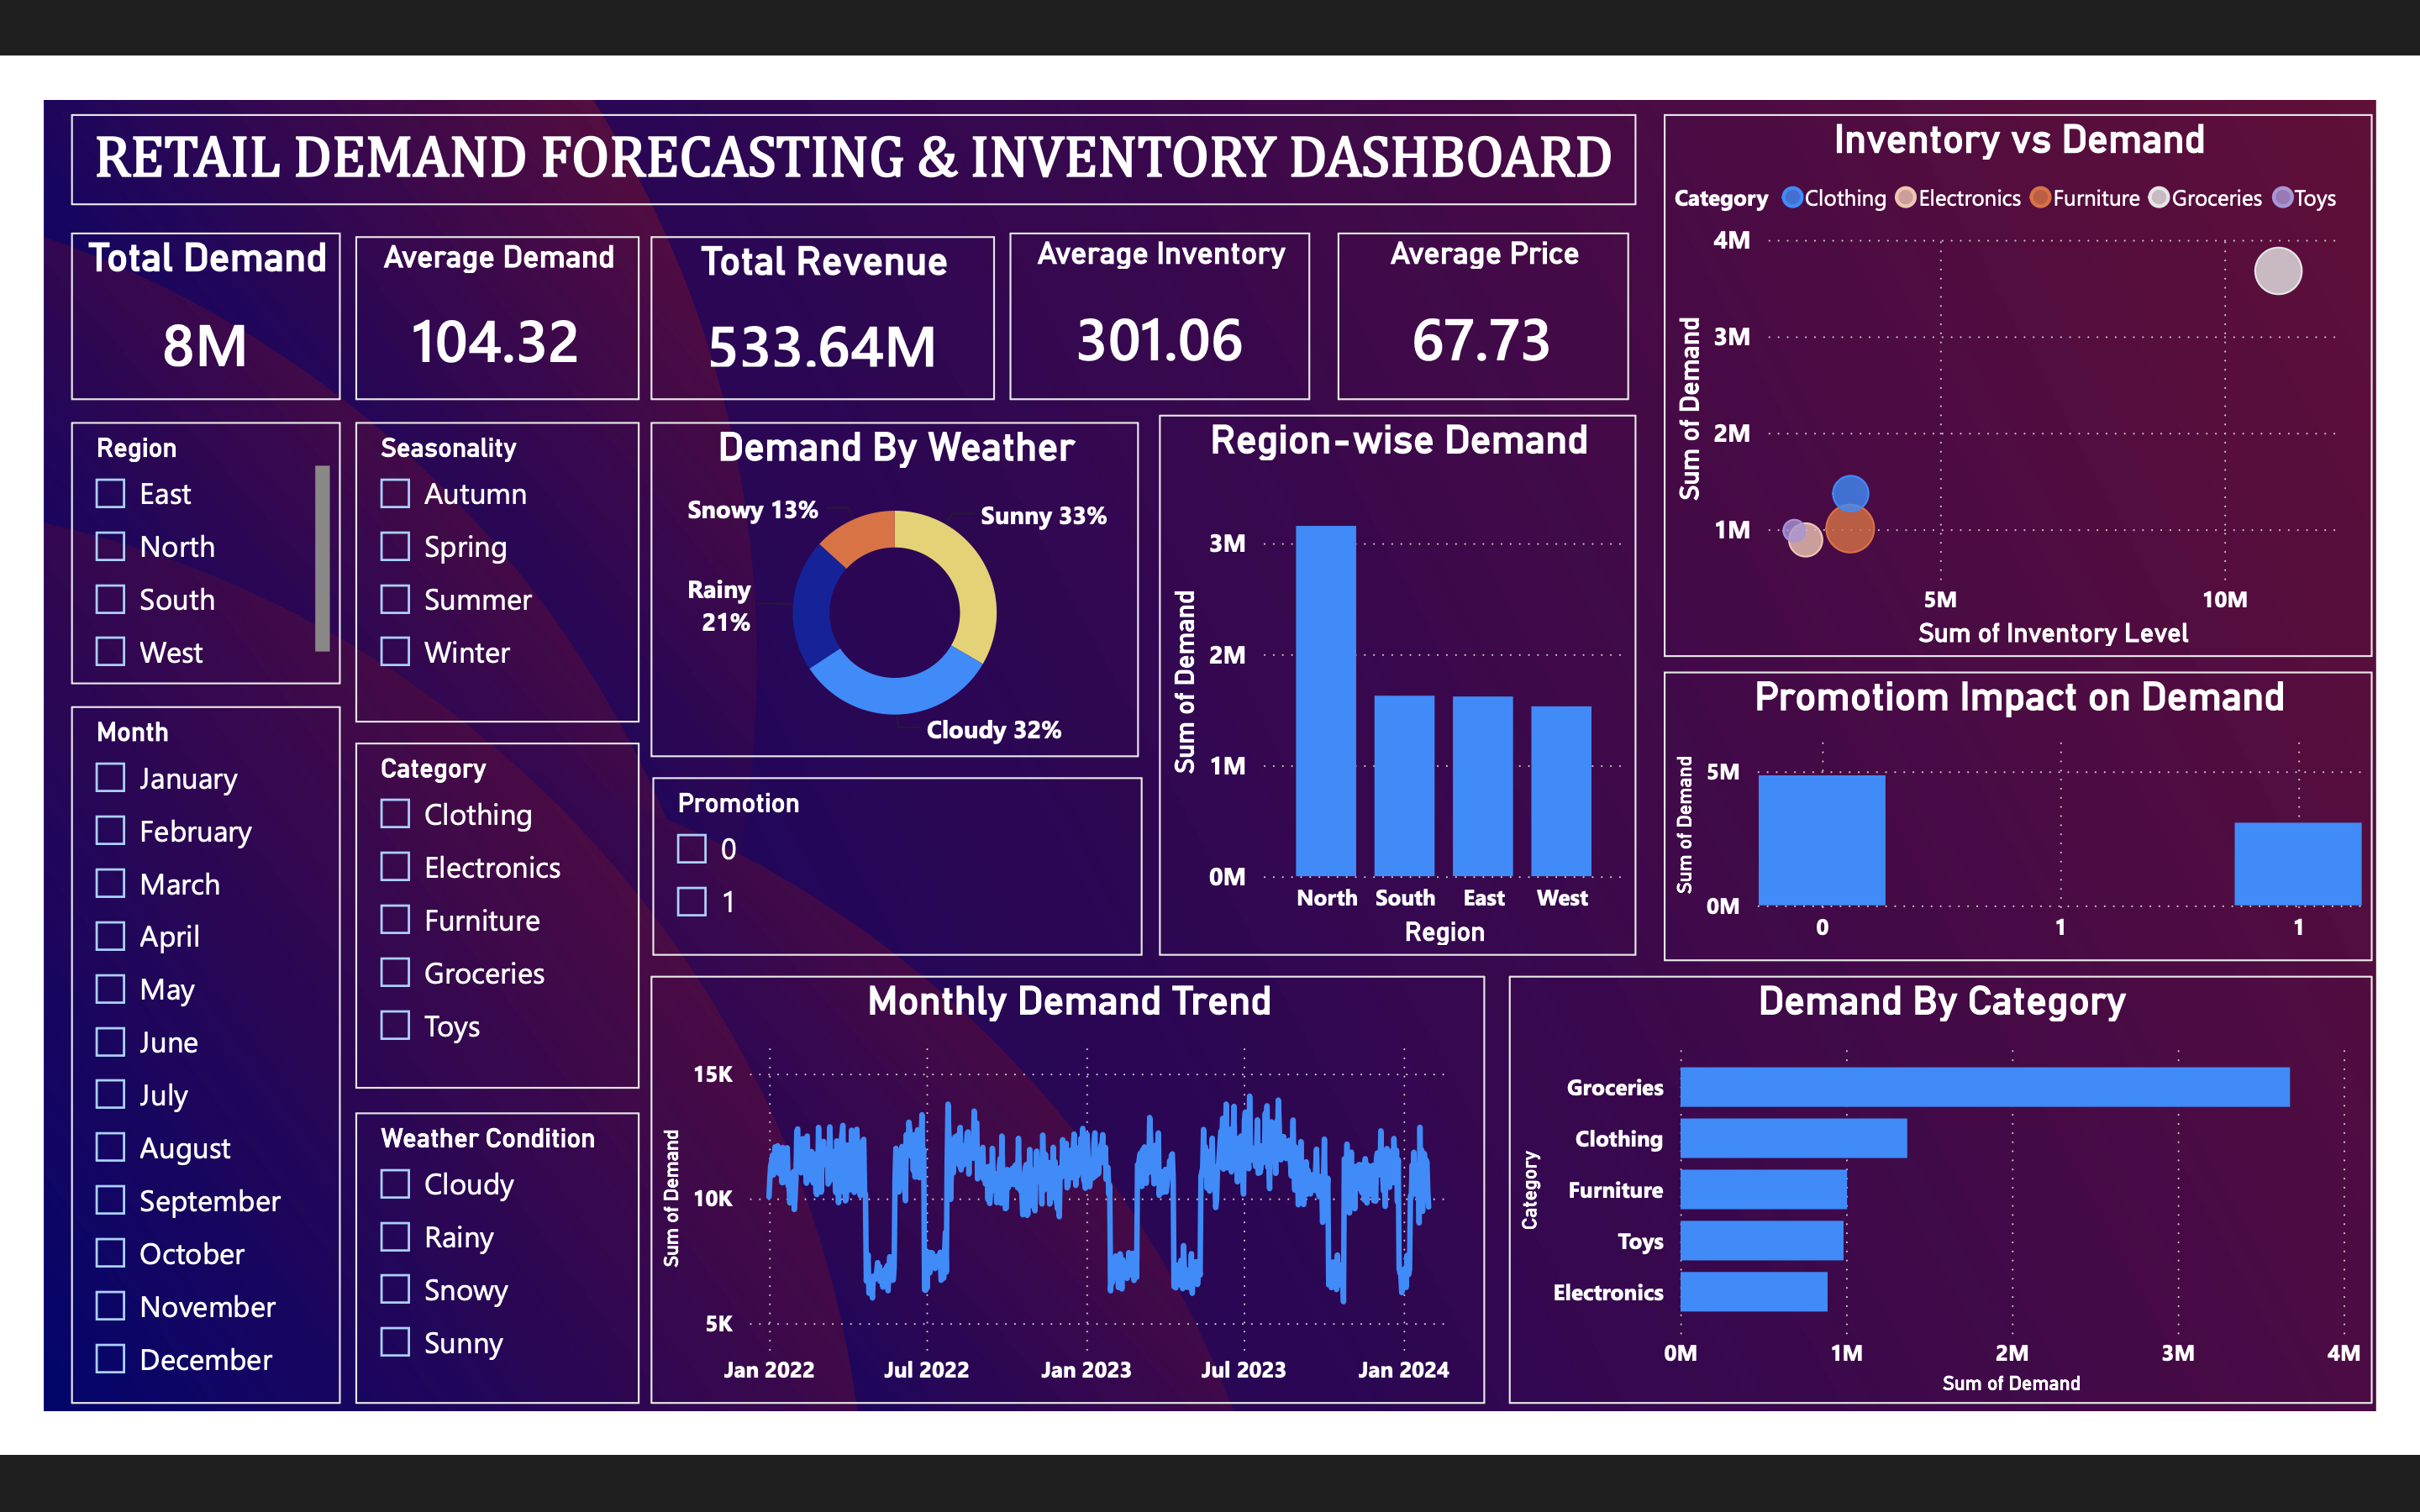

What the dashboard file says about the page in this screenshot:
{"tool":"powerbi","page":{"name":"Page 1","canvas":[1280,720],"ordinal":0},"visuals":[{"type":"cardVisual","title":"Total Demand","fields":{"Data":["sales_data.Total Demand"]},"box":[15,73.3,148.4,92.1],"z":0},{"type":"cardVisual","title":"Total Revenue","fields":{"Data":["sales_data.Total Revenue"]},"box":[332.5,75.1,189.7,90.2],"z":1000},{"type":"cardVisual","title":"Average Demand","fields":{"Data":["sales_data.Average Demand"]},"box":[171,75.1,155.9,90.2],"z":2000},{"type":"cardVisual","title":"Average Inventory","fields":{"Data":["sales_data.Average Inventory"]},"box":[530,75,165,92],"z":3000},{"type":"cardVisual","title":"Average Price","fields":{"Data":["sales_data.Average Price"]},"box":[710.1,73.3,159.7,92.1],"z":4000},{"type":"lineChart","title":"Monthly Demand Trend","fields":{"Y":["Sum(sales_data.Demand)"],"Category":["sales_data.Date.Variation.Date Hierarchy.Year","sales_data.Date.Variation.Date Hierarchy.Quarter","sales_data.Date.Variation.Date Hierarchy.Month","sales_data.Date.Variation.Date Hierarchy.Day"]},"box":[332.5,480.9,458.4,234.8],"z":5000},{"type":"clusteredBarChart","title":"Demand By Category","fields":{"Category":["sales_data.Category"],"Y":["Sum(sales_data.Demand)"]},"box":[804.1,480.9,473.4,234.8],"z":6000},{"type":"clusteredColumnChart","title":"Region-wise Demand","fields":{"Category":["sales_data.Region"],"Y":["Sum(sales_data.Demand)"]},"box":[612.5,172.8,261.1,296.8],"z":7000},{"type":"clusteredColumnChart","title":"Promotiom Impact on Demand","fields":{"Category":["sales_data.Promotion"],"Y":["Sum(sales_data.Demand)"]},"box":[888.6,313.7,388.9,159.7],"z":8000},{"type":"scatterChart","title":"Inventory vs Demand","fields":{"X":["Sum(sales_data.Inventory Level)"],"Y":["Sum(sales_data.Demand)"],"Series":["sales_data.Category"],"Size":["Sum(sales_data.Price)"]},"box":[888.6,7.5,388.9,298.7],"z":9000},{"type":"donutChart","title":"Demand By Weather","fields":{"Category":["sales_data.Weather Condition"],"Y":["Sum(sales_data.Demand)"]},"box":[332.5,176.6,268.7,184.1],"z":10000},{"type":"slicer","title":"Inventory vs Demand","fields":{"Values":["sales_data.Region"]},"box":[15,176.6,148.4,144.7],"z":11000},{"type":"slicer","title":"Inventory vs Demand","fields":{"Values":["sales_data.Category"]},"box":[171,353.2,155.9,189.7],"z":12000},{"type":"slicer","title":"Inventory vs Demand","fields":{"Values":["sales_data.Seasonality"]},"box":[171,176.6,155.9,165.3],"z":13000},{"type":"slicer","title":"Inventory vs Demand","fields":{"Values":["sales_data.Promotion"]},"box":[334.4,372,268.7,97.7],"z":14000},{"type":"slicer","title":"Inventory vs Demand","fields":{"Values":["sales_data.Weather Condition"]},"box":[171,556.1,155.9,159.7],"z":15000},{"type":"slicer","title":"Inventory vs Demand","fields":{"Values":["sales_data.Date.Variation.Date Hierarchy.Month"]},"box":[15,332.5,148.4,383.3],"z":16000},{"type":"textbox","box":[15,7.5,858.6,50.7],"z":17000}]}

Visuals, with their boxes on the page's 1280x720 design canvas (x1, y1, x2, y2). These are canvas units, not pixel positions in the 2420x1512 screenshot, which may show the page scaled, cropped or inside an application window:
"Total Demand" cardVisual: crop(15, 73, 163, 165)
"Total Revenue" cardVisual: crop(332, 75, 522, 165)
"Average Demand" cardVisual: crop(171, 75, 327, 165)
"Average Inventory" cardVisual: crop(530, 75, 695, 167)
"Average Price" cardVisual: crop(710, 73, 870, 165)
"Monthly Demand Trend" lineChart: crop(332, 481, 791, 716)
"Demand By Category" clusteredBarChart: crop(804, 481, 1278, 716)
"Region-wise Demand" clusteredColumnChart: crop(612, 173, 874, 470)
"Promotiom Impact on Demand" clusteredColumnChart: crop(889, 314, 1278, 473)
"Inventory vs Demand" scatterChart: crop(889, 8, 1278, 306)
"Demand By Weather" donutChart: crop(332, 177, 601, 361)
"Inventory vs Demand" slicer: crop(15, 177, 163, 321)
"Inventory vs Demand" slicer: crop(171, 353, 327, 543)
"Inventory vs Demand" slicer: crop(171, 177, 327, 342)
"Inventory vs Demand" slicer: crop(334, 372, 603, 470)
"Inventory vs Demand" slicer: crop(171, 556, 327, 716)
"Inventory vs Demand" slicer: crop(15, 332, 163, 716)
textbox: crop(15, 8, 874, 58)
